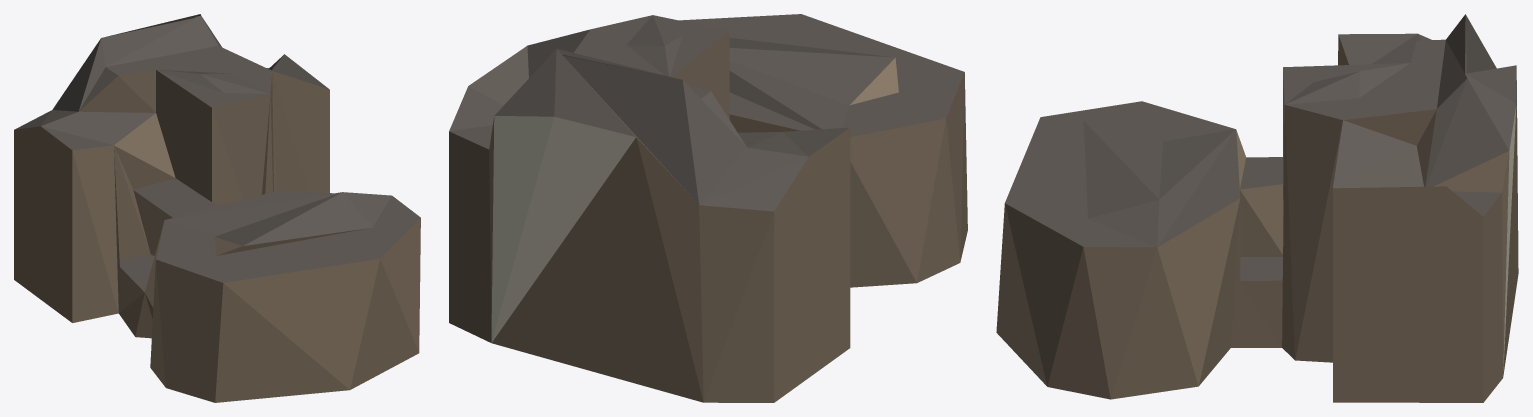
File: uva-binnengasthuisstraat-9.lod2.glb
The picture shows the model from 3 angles, left to right: view 1: azimuth 30°, elevation 25°; view 2: azimuth 150°, elevation 25°; view 3: azimuth 270°, elevation 25°; orthographic projection. The views are drawn at different scales.
Visible parts, largest first — view 1: lod2; view 2: lod2; view 3: lod2.
Part boxes in pixels (box(x1,y1,x2,y2)): lod2: box(14, 14, 420, 402); lod2: box(449, 14, 967, 402); lod2: box(996, 14, 1518, 402).
Bounding box in the file's own units: 24.19 × 20.61 × 34.5.
